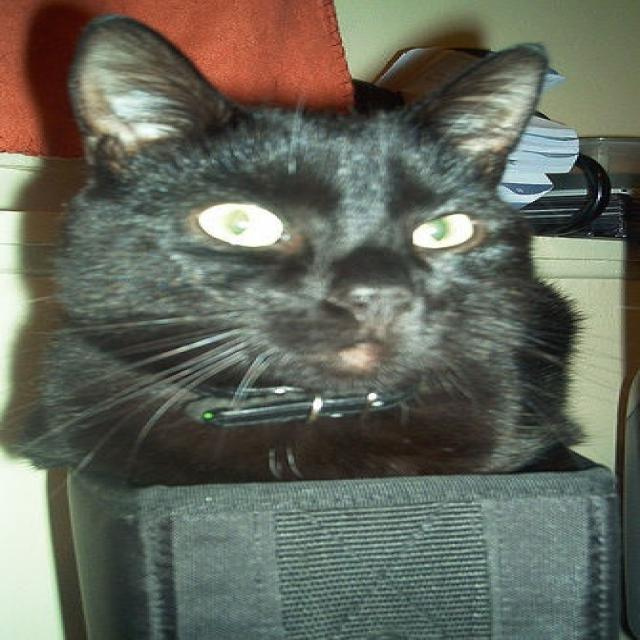cat: (27, 18, 575, 471)
